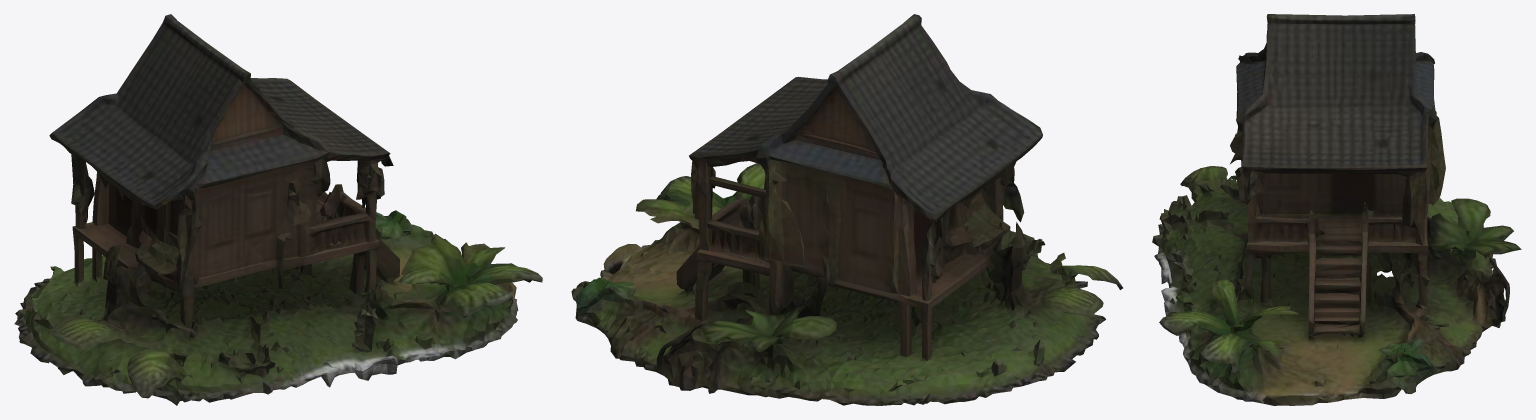
The model's file is building.glb.
3 renders of one model, left to right at view 1: azimuth 30°, elevation 25°; view 2: azimuth 150°, elevation 25°; view 3: azimuth 270°, elevation 25°, orthographic. The views are drawn at different scales.
Parts seen in each view (by area): view 1: world; view 2: world; view 3: world.
Boxes of the visible parts, left/top/right/bottom form: world: left=14, top=14, right=542, bottom=405; world: left=571, top=14, right=1122, bottom=405; world: left=1152, top=14, right=1521, bottom=405.
Size of the model in its own units: 0.8116 by 0.5067 by 0.6188.
1 material, 1 textured.
